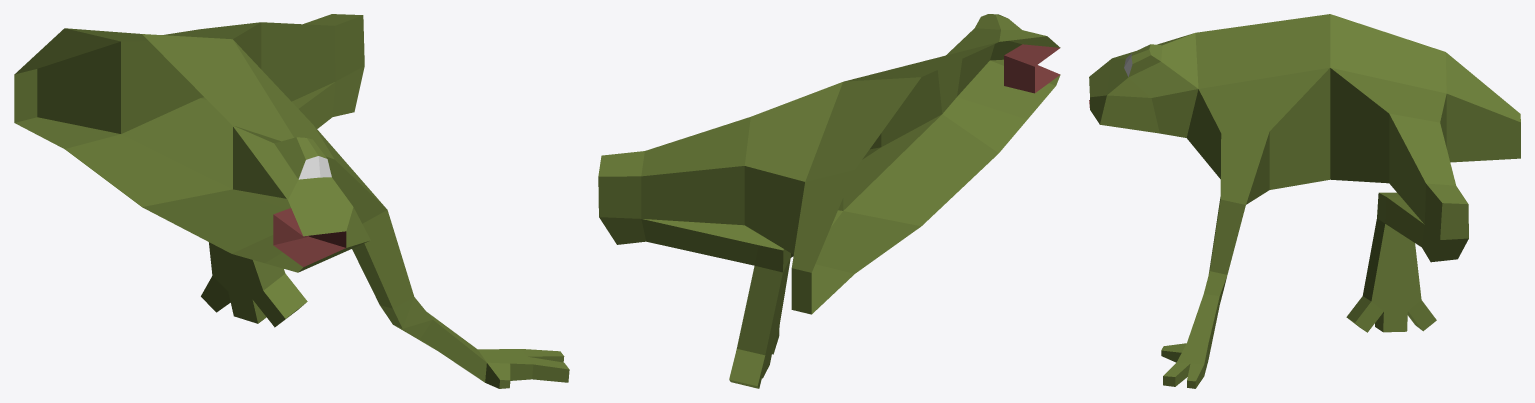
File: froggy.glb
3 renders of one model, left to right at view 1: azimuth 30°, elevation 25°; view 2: azimuth 150°, elevation 25°; view 3: azimuth 270°, elevation 25°, orthographic. The views are drawn at different scales.
Parts seen in each view (by area): view 1: Cube; view 2: Cube; view 3: Cube.
Boxes of the visible parts, <box> form: Cube: <box>14,14,569,388</box>; Cube: <box>598,14,1060,388</box>; Cube: <box>1089,14,1520,388</box>.
Bounding box in the file's own units: 3.95 × 4.05 × 6.02.
